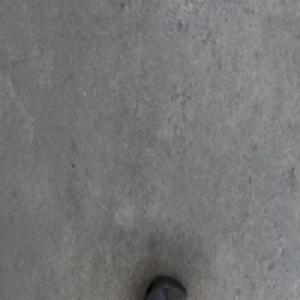AdjustableWrench: (145, 275, 188, 298)
